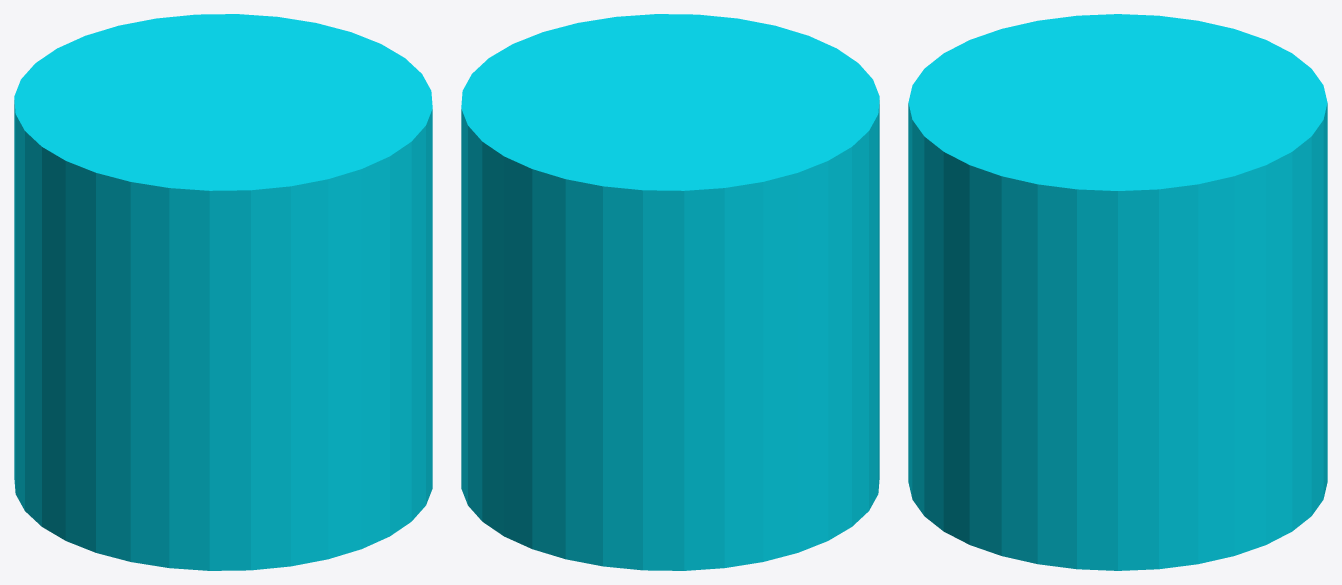
The model's file is ptr.glb.
3 renders of one model, left to right at view 1: azimuth 30°, elevation 25°; view 2: azimuth 150°, elevation 25°; view 3: azimuth 270°, elevation 25°, orthographic.
Parts seen in each view (by area): view 1: BinhTru; view 2: BinhTru; view 3: BinhTru.
Boxes of the visible parts, bbox=[...] form: BinhTru: bbox=[14, 14, 432, 570]; BinhTru: bbox=[461, 14, 879, 570]; BinhTru: bbox=[908, 14, 1327, 570].
Bounding box in the file's own units: 0.24 × 0.24 × 0.24.
